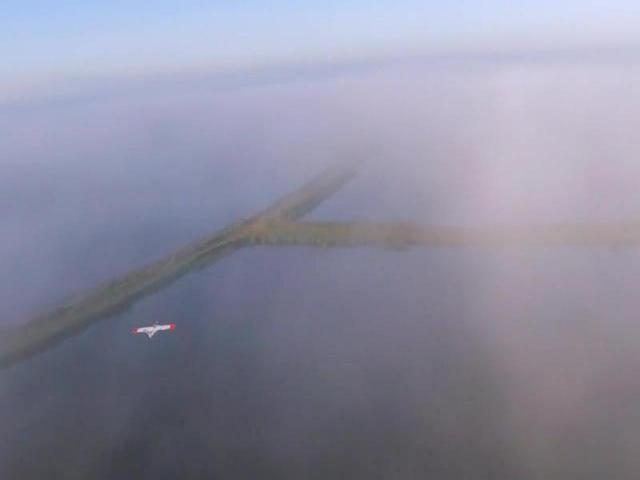hedef: (135, 318, 175, 344)
